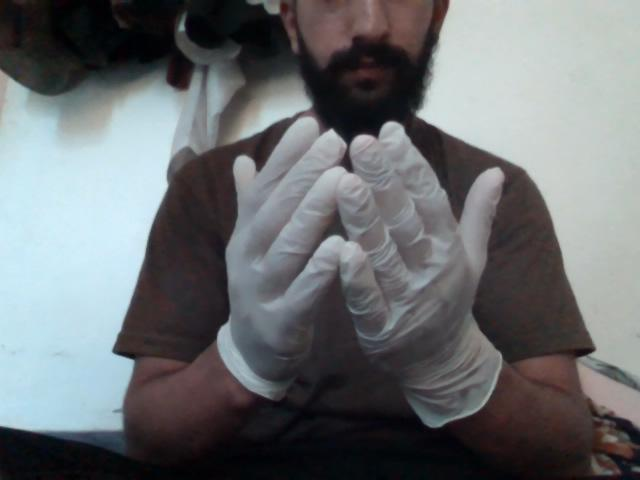gloves: (187, 124, 529, 454)
